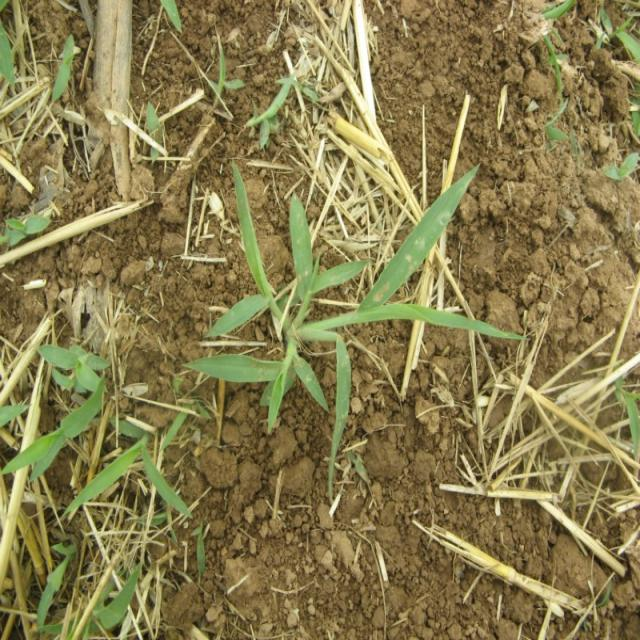bg: (203, 160, 521, 470)
